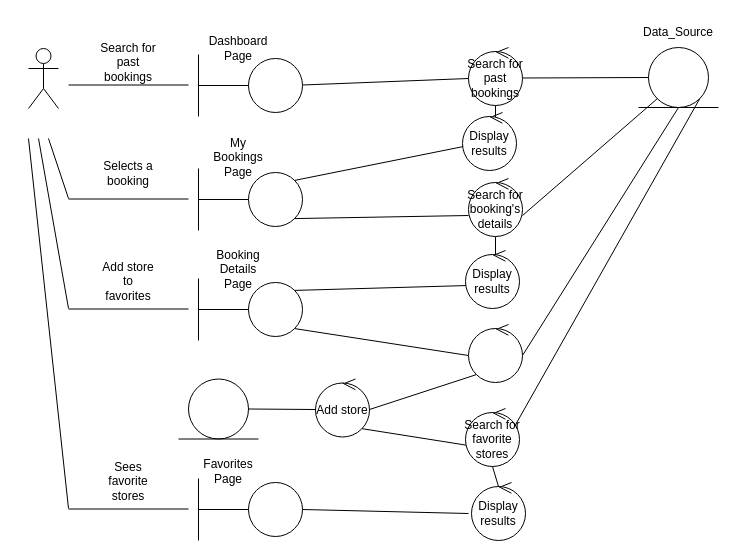
Image size: 737x559. Some labels were removed from this diagram. The centre of each missing label's shape, as x and y in pixels:
"Check if store already added" belongs at point (495, 355).
"Customer" belongs at point (43, 78).
"Store addition to favorites" belongs at point (218, 408).
